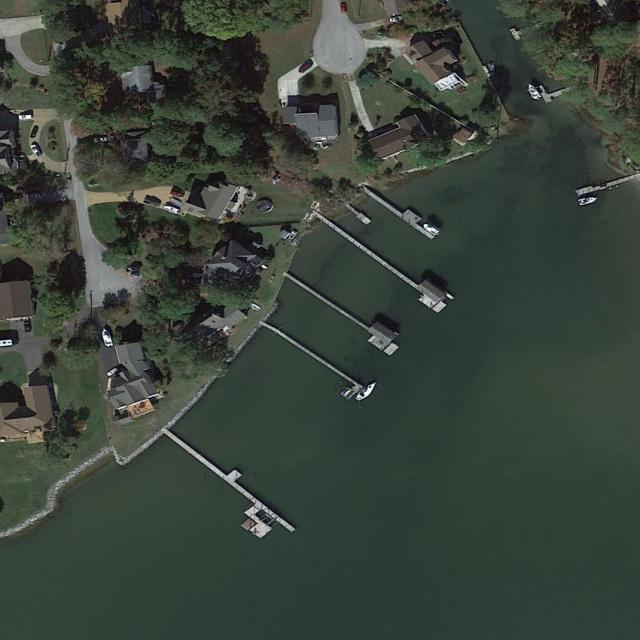ship: (352, 380, 379, 404), (97, 326, 115, 349), (524, 82, 544, 102), (421, 222, 443, 237), (161, 203, 182, 216), (578, 195, 599, 206), (487, 61, 498, 76), (248, 301, 263, 312)
small-vehicle: (295, 61, 315, 75), (29, 143, 44, 159), (386, 14, 406, 25), (167, 195, 184, 207), (142, 198, 161, 208), (104, 367, 120, 378), (169, 189, 186, 199), (22, 319, 33, 333), (29, 127, 40, 139), (338, 2, 349, 13), (288, 230, 299, 241), (18, 114, 35, 121), (93, 137, 110, 143), (24, 193, 40, 199), (260, 263, 270, 271)
